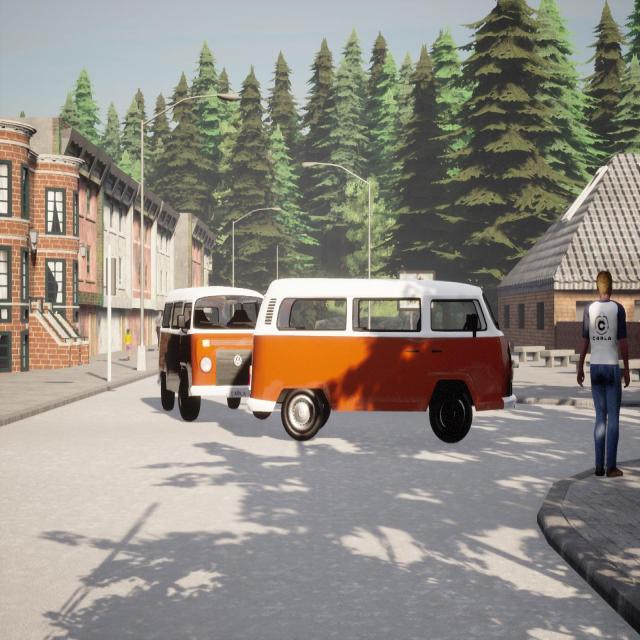Pedestrian: (577, 271, 629, 476), (121, 328, 134, 363), (154, 310, 164, 351)
Vehicle: (247, 279, 515, 442), (158, 288, 266, 423)
traffic_light: (106, 257, 116, 296)
